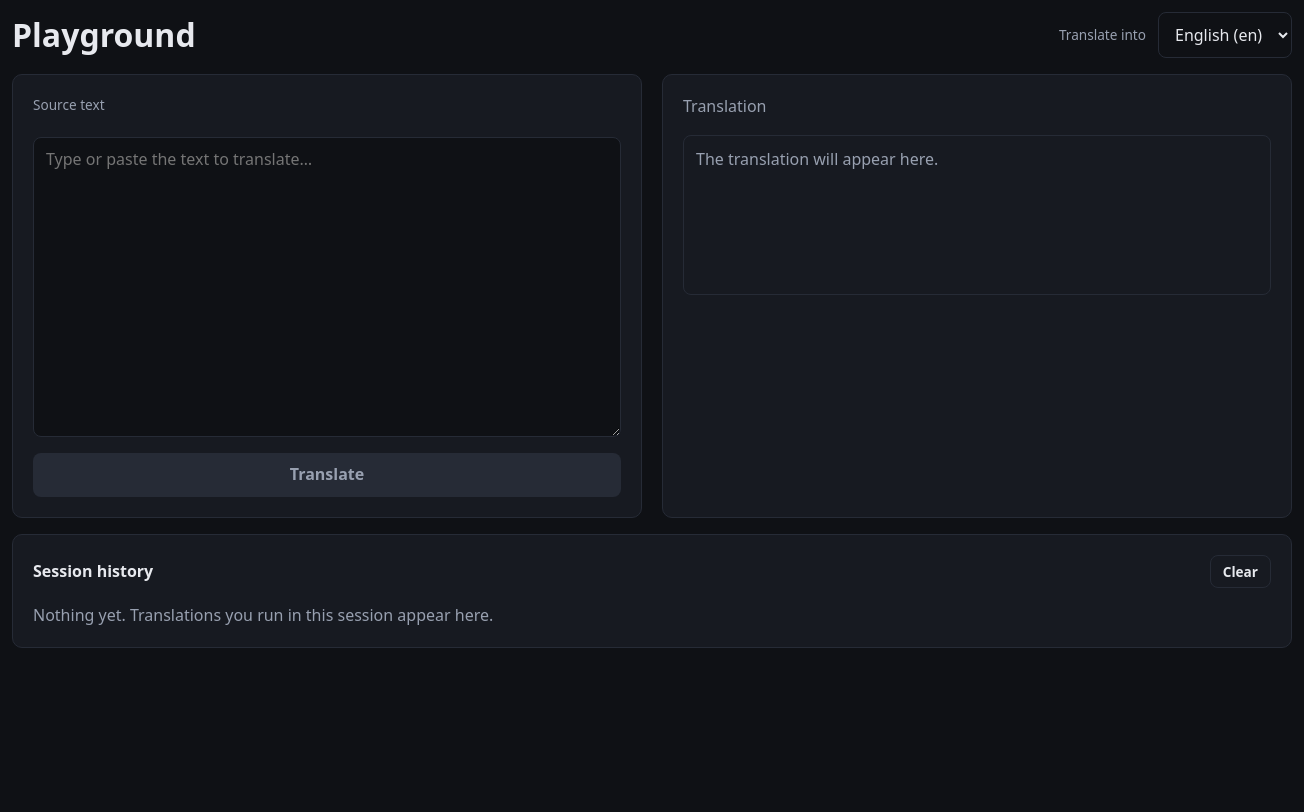
Playground › surfaces a translation error and returns to the idle state
Type "hello" into the text box labelled "Source text" at (327, 287), box [33, 137, 621, 437]
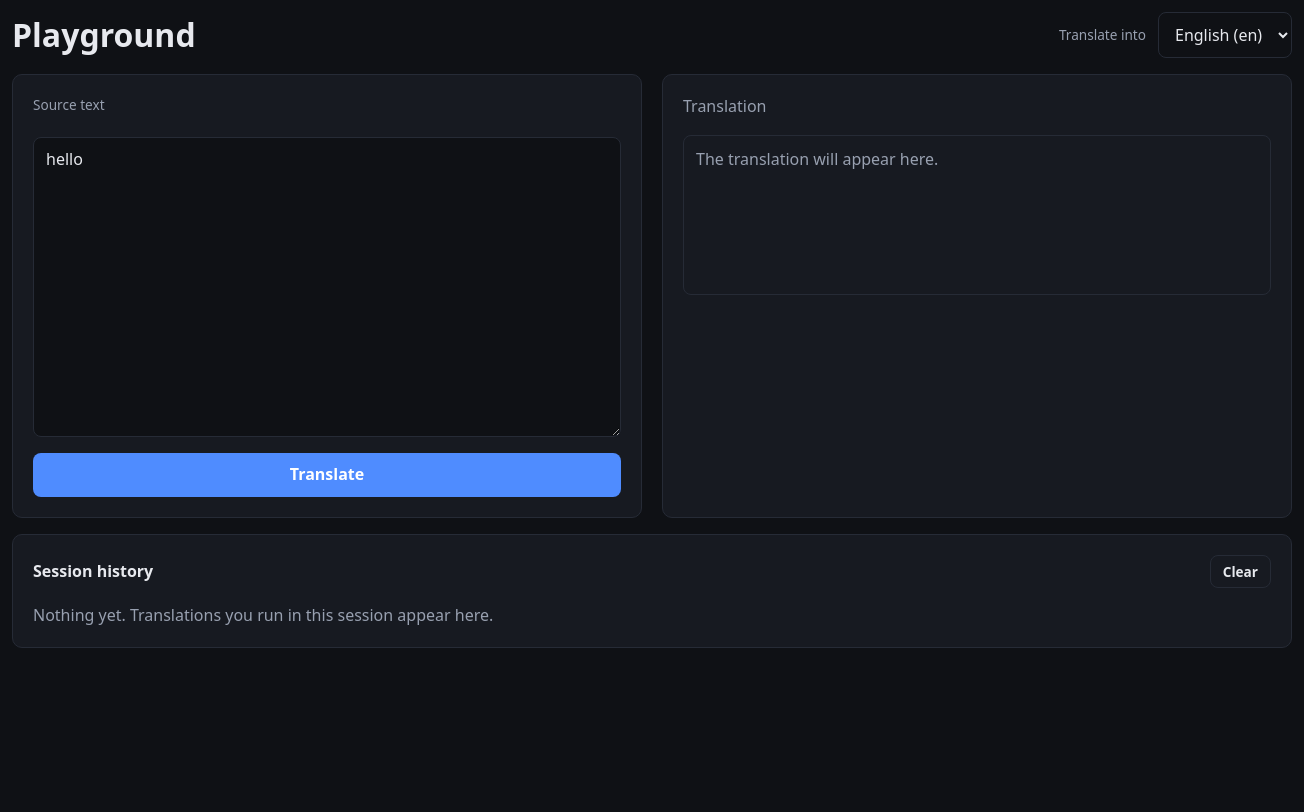
Click the button "Translate" at (327, 475), box [33, 453, 621, 496]
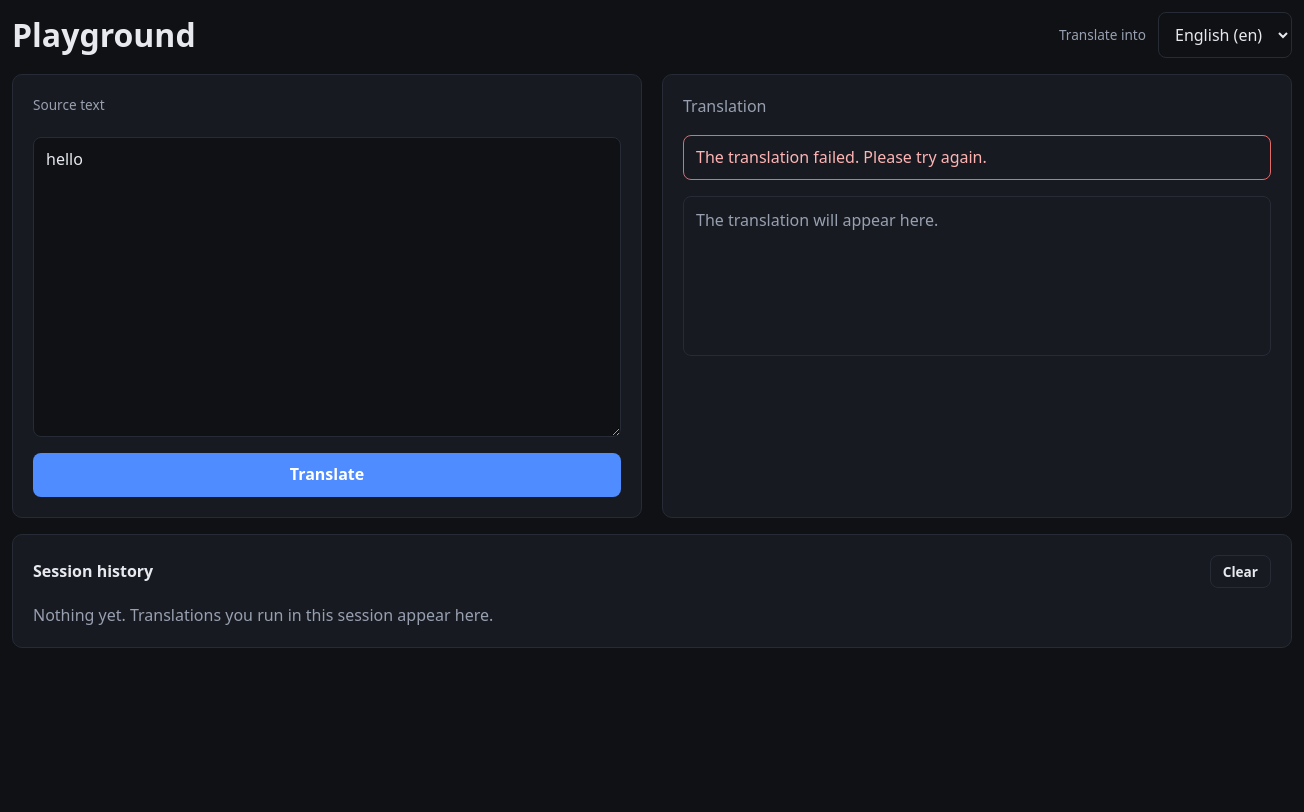
Expected: the text "The translation will appear here." is shown, [696, 209, 938, 231]
Result: the message "The translation failed. Please try again." is shown at [683, 135, 1271, 180]
